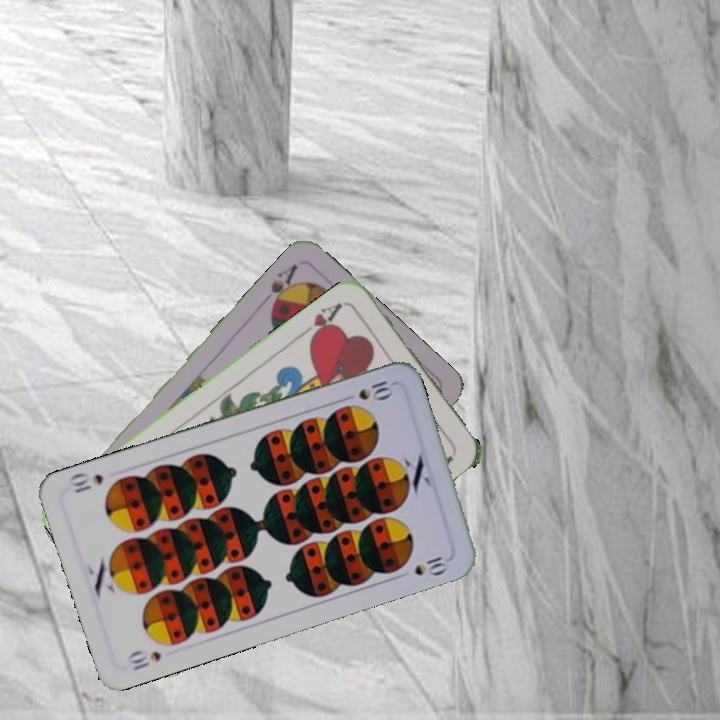HA: (295, 298, 345, 346)
S10: (122, 646, 164, 673), (354, 376, 395, 403)
SA: (257, 260, 302, 314)
